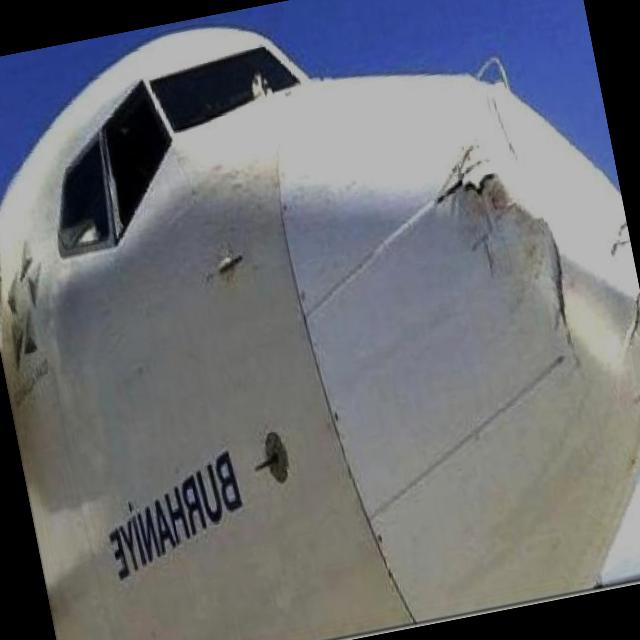dent: (394, 42, 640, 338)
